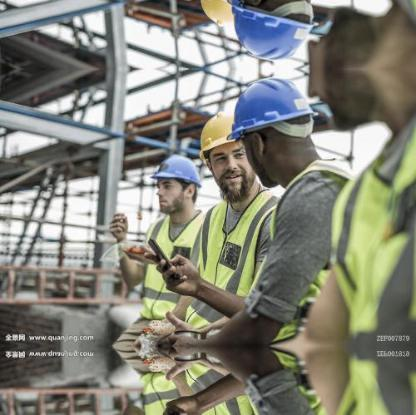helmet: (230, 78, 314, 136), (143, 143, 207, 196), (191, 108, 247, 154)
